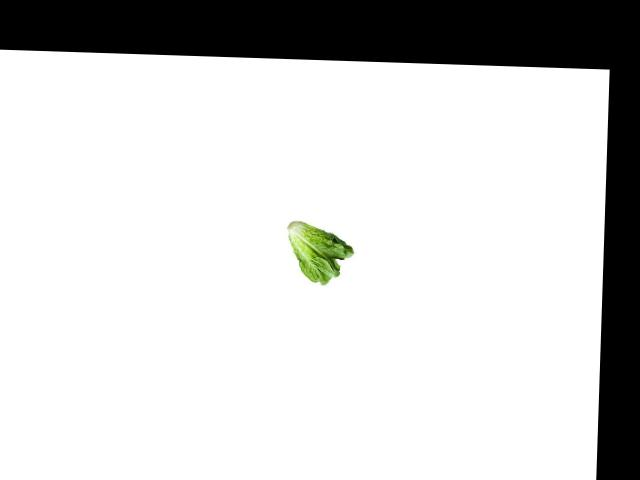lettuce: (283, 219, 354, 294)
